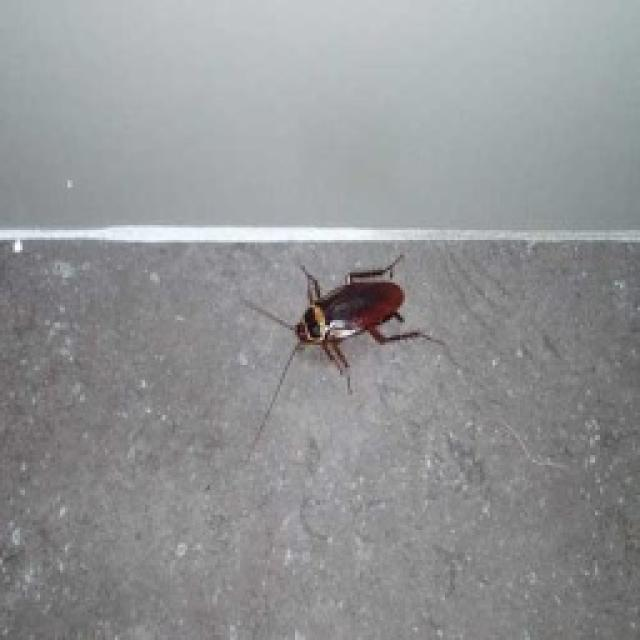cockroach: (241, 244, 451, 400)
